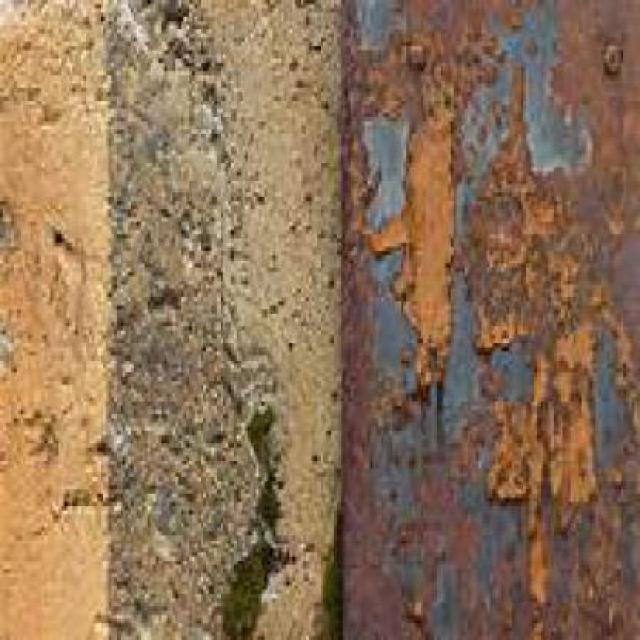defective: (101, 3, 640, 547)
